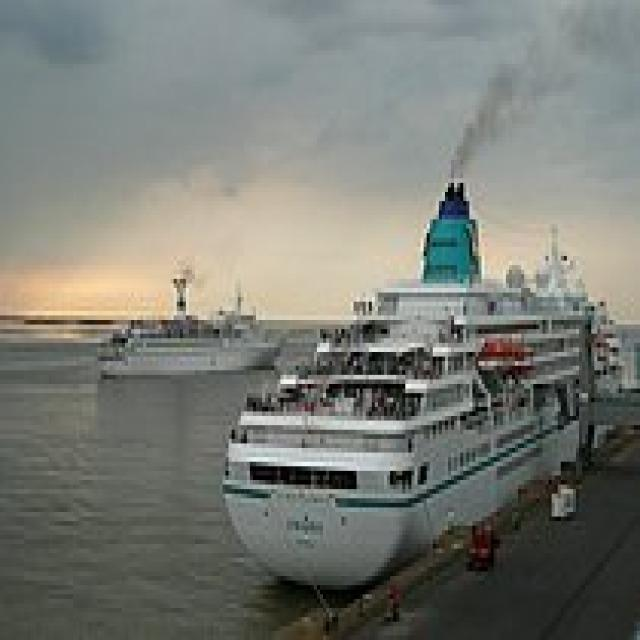Cruise: (216, 174, 622, 594), (88, 270, 280, 370)
